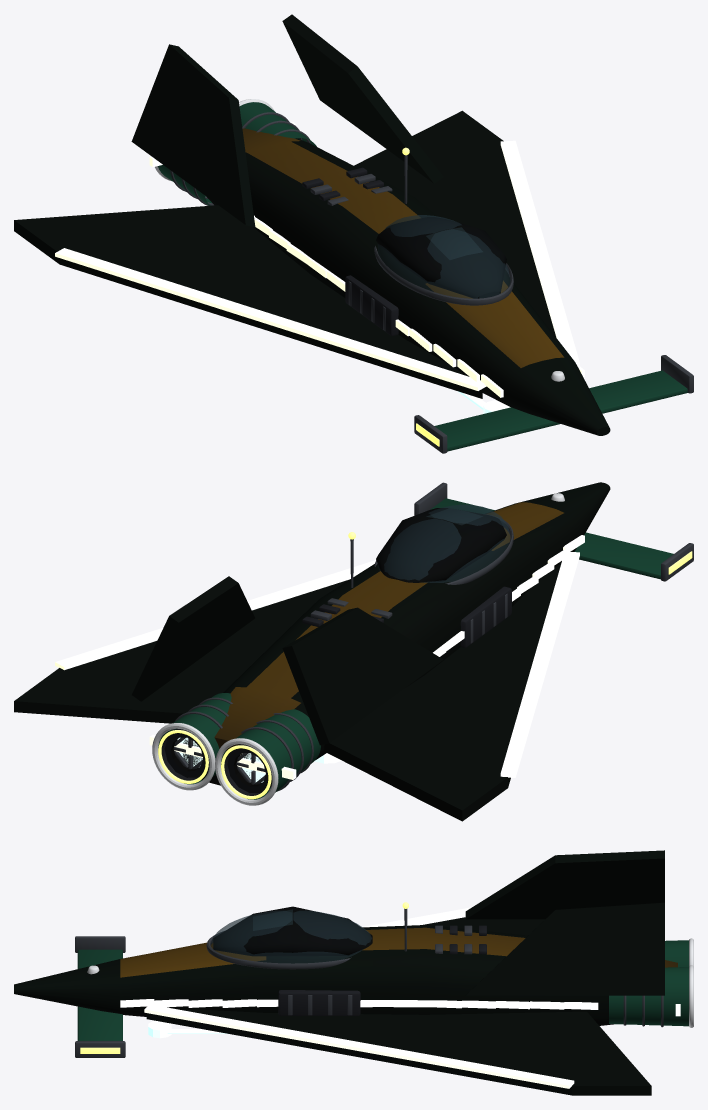
The model's file is shaddai_ship_raptor_v01.glb.
3 views of the same model, one above another, from view 1: azimuth 30°, elevation 25°; view 2: azimuth 150°, elevation 25°; view 3: azimuth 270°, elevation 25° (orthographic). The views are drawn at different scales.
Parts seen in each view (by area): view 1: shaddai_ship_raptor, shaddai_ship_raptor_detail; view 2: shaddai_ship_raptor, shaddai_ship_raptor_detail, shaddai_ship_raptor_thrusters; view 3: shaddai_ship_raptor, shaddai_ship_raptor_detail.
Boxes of the visible parts, box(x1,y1,x2,y2) form: shaddai_ship_raptor: box(14, 14, 610, 435); shaddai_ship_raptor_detail: box(155, 99, 693, 453); shaddai_ship_raptor: box(14, 482, 610, 821); shaddai_ship_raptor_detail: box(152, 482, 693, 805); shaddai_ship_raptor_thrusters: box(164, 733, 341, 792); shaddai_ship_raptor: box(14, 850, 680, 1095); shaddai_ship_raptor_detail: box(75, 902, 693, 1057).
Size of the model in its own units: 3.49 by 1.22 by 5.12.
